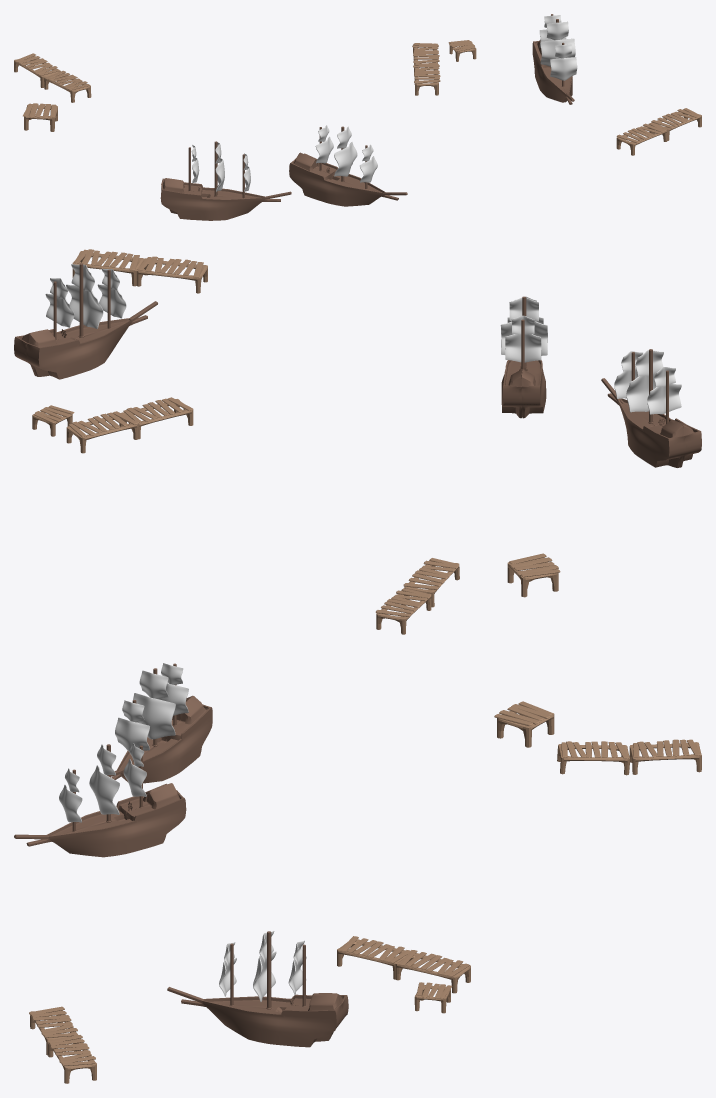
The model's file is test_try_3d.glb.
3 renders of one model, top to bottom at view 1: azimuth 30°, elevation 25°; view 2: azimuth 150°, elevation 25°; view 3: azimuth 270°, elevation 25°, orthographic. The views are drawn at different scales.
Visible parts, largest first — view 1: Cube.001, Cube.003, Cube.002, Cube.013, Cube.011, Cube.004, Cube.009, Cube.007, Cube.005, Cube.012, Cube.008; view 2: Cube.002, Cube.003, Cube.001, Cube.012, Cube.013, Cube.005, Cube.004, Cube.011, Cube.007, Cube.009, Cube.008; view 3: Cube.001, Cube.002, Cube.003, Cube.012, Cube.004, Cube.005, Cube.011, Cube.009, Cube.007, Cube.013, Cube.008.
Part boxes in pixels (box(x1,y1,x2,y2)): Cube.001: box(289, 125, 407, 206); Cube.003: box(160, 141, 291, 220); Cube.002: box(532, 14, 577, 104); Cube.013: box(616, 122, 667, 155); Cube.011: box(44, 70, 91, 102); Cube.004: box(14, 53, 60, 87); Cube.009: box(651, 108, 701, 140); Cube.007: box(413, 63, 440, 95); Cube.005: box(23, 103, 57, 131); Cube.012: box(412, 43, 439, 63); Cube.008: box(448, 40, 476, 61); Cube.002: box(14, 263, 157, 379); Cube.003: box(601, 349, 701, 467); Cube.001: box(500, 296, 547, 418); Cube.012: box(66, 411, 138, 453); Cube.013: box(136, 256, 207, 293); Cube.005: box(507, 553, 560, 597); Cube.004: box(375, 588, 431, 634); Cube.011: box(403, 558, 459, 607); Cube.007: box(122, 397, 193, 439); Cube.009: box(72, 249, 143, 286); Cube.008: box(32, 405, 74, 436); Cube.001: box(14, 743, 186, 857); Cube.002: box(167, 931, 348, 1047); Cube.003: box(111, 663, 212, 783); Cube.012: box(395, 950, 470, 993); Cube.004: box(629, 739, 701, 774); Cube.005: box(494, 701, 554, 747); Cube.011: box(557, 741, 630, 775); Cube.009: box(47, 1035, 96, 1083); Cube.007: box(337, 936, 410, 979); Cube.013: box(29, 1006, 77, 1055); Cube.008: box(414, 982, 452, 1013).
Size of the model in its own units: 18.35 by 2.45 by 14.97.
